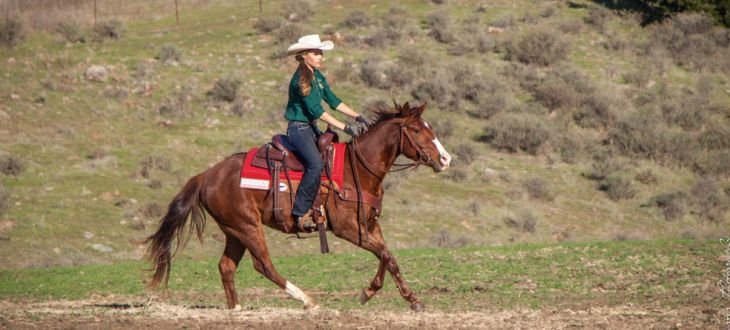Horse: (131, 102, 459, 326)
Person: (268, 28, 360, 228)
